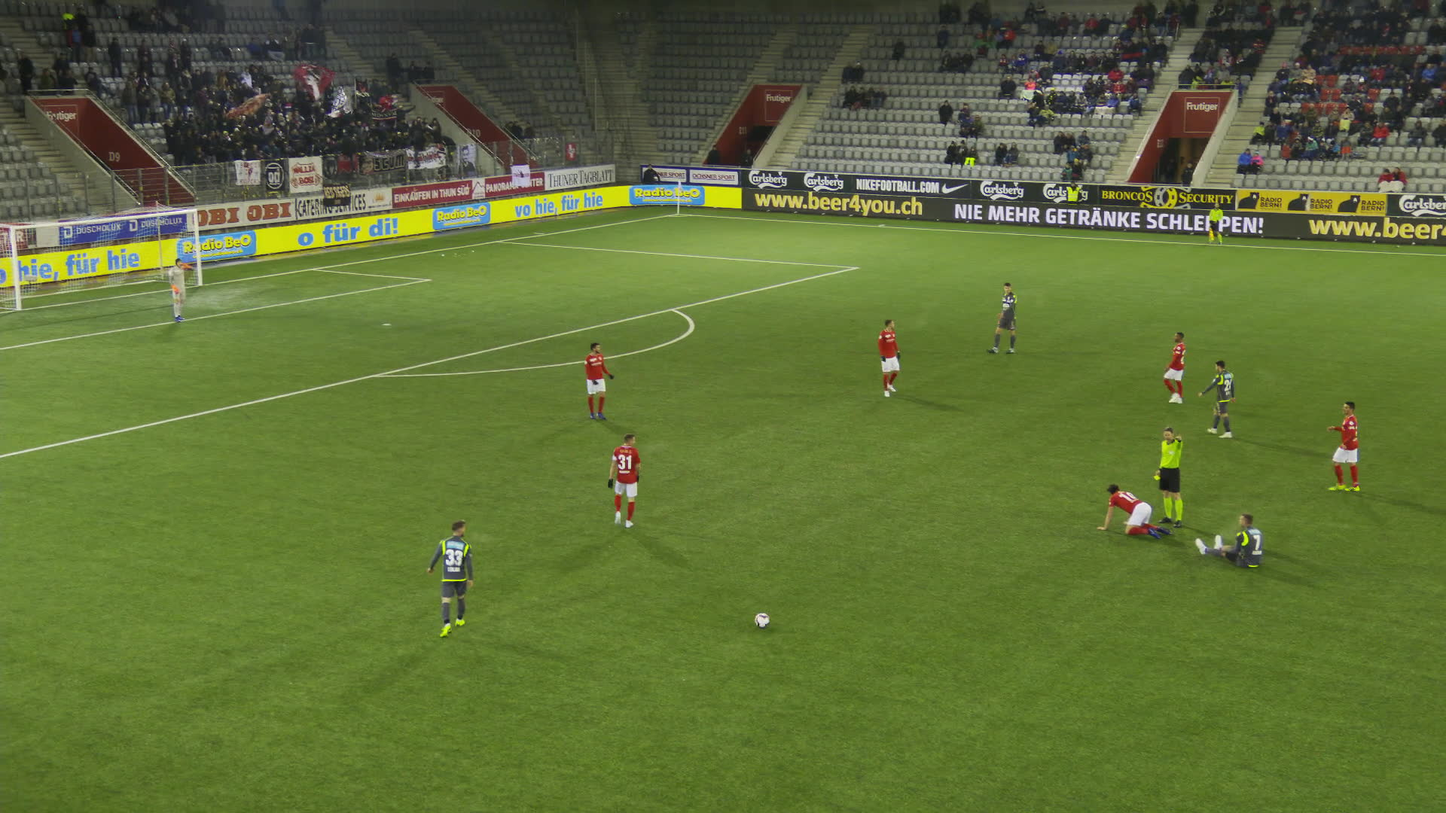ball: (755, 611, 770, 626)
player: (423, 516, 474, 638), (1092, 480, 1173, 540), (1319, 399, 1365, 495), (1191, 511, 1264, 570), (603, 430, 643, 529), (1197, 358, 1237, 441), (580, 340, 615, 422), (1158, 329, 1193, 405), (987, 281, 1019, 355), (874, 315, 902, 397), (163, 254, 194, 324)
referee: (1147, 424, 1187, 528), (1203, 199, 1222, 244)
